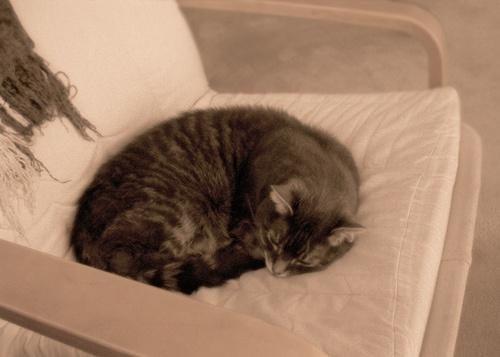cat: (73, 109, 363, 294)
chair: (1, 3, 480, 357)
